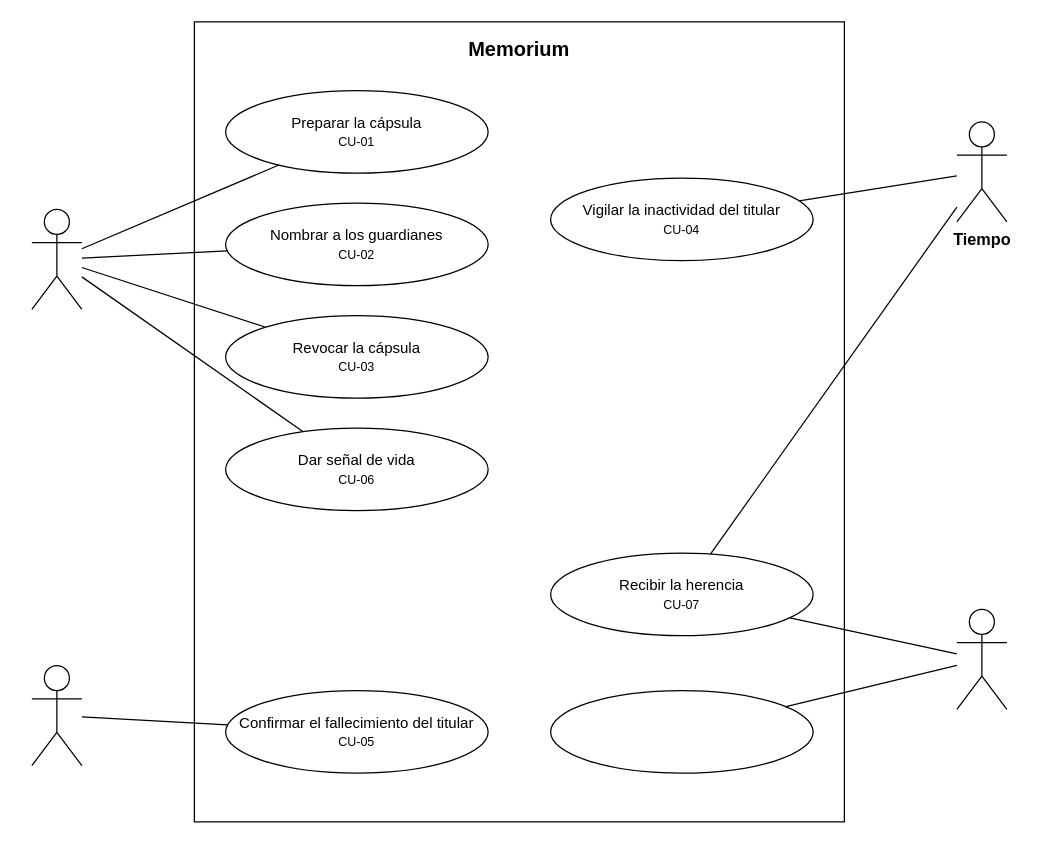
This 1039x844 diagram has some shape labels left out. The centre of each missing label's shape, as x and y in pixels:
Consultar el historial de la liberación CU-08: the point at 681,731
Guardián: the point at 56,715
Heredero: the point at 981,658
Titular: the point at 56,258
